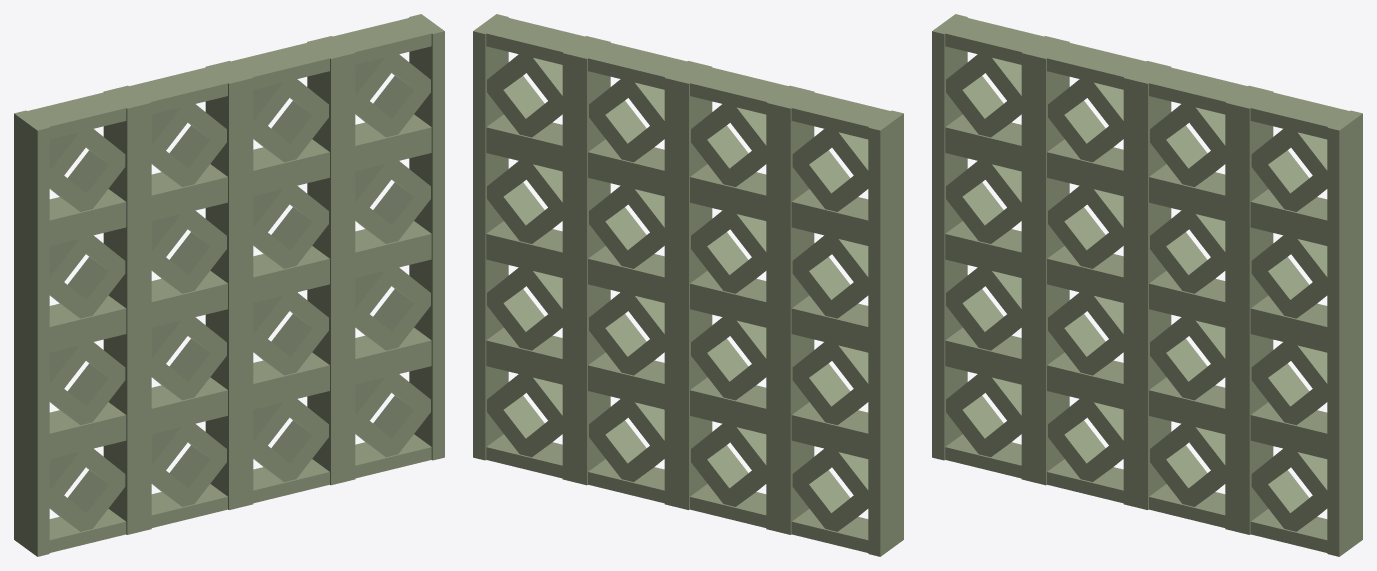
File: SM_Wall_BreezePanel_01.fbx
3 renders of one model, left to right at view 1: azimuth 30°, elevation 25°; view 2: azimuth 150°, elevation 25°; view 3: azimuth 330°, elevation 25°, orthographic.
Parts seen in each view (by area): view 1: SM_Wall_BreezePanel_01; view 2: SM_Wall_BreezePanel_01; view 3: SM_Wall_BreezePanel_01.
Part boxes in pixels (box(x1,y1,x2,y2)): SM_Wall_BreezePanel_01: box(14, 14, 444, 556); SM_Wall_BreezePanel_01: box(473, 14, 903, 556); SM_Wall_BreezePanel_01: box(932, 14, 1362, 556).
Size of the model in its own units: 1 by 1 by 0.1.
1 material, 1 textured.
